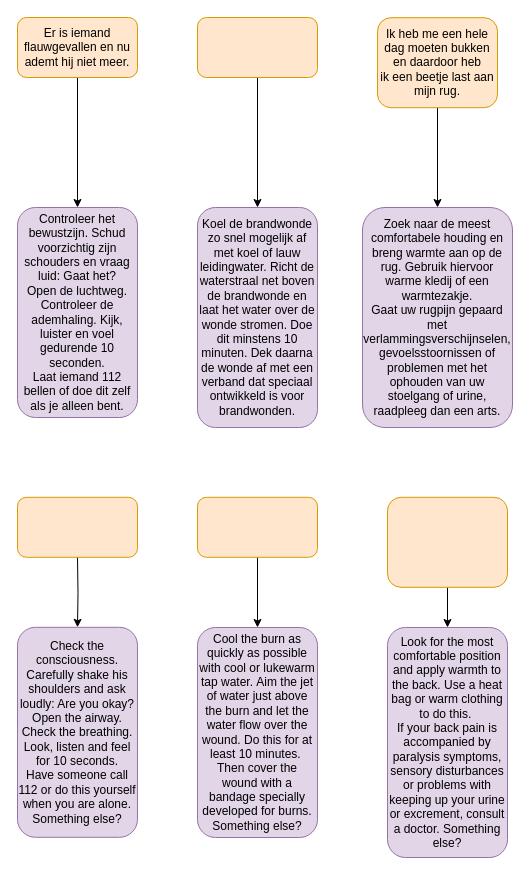
This 530x875 diagram has some shape labels left out. The shapes that lost their labels are listed below. From the top down, each one's centre as x and y in pixels, then its label:
(257,47): Help me met een brandwonde.
(77,526): Someone fainted and now he is not breathing anymore.
(257,526): help me with a burn
(447,541): I had to bend over for a whole day and I have a little trouble with my back.
